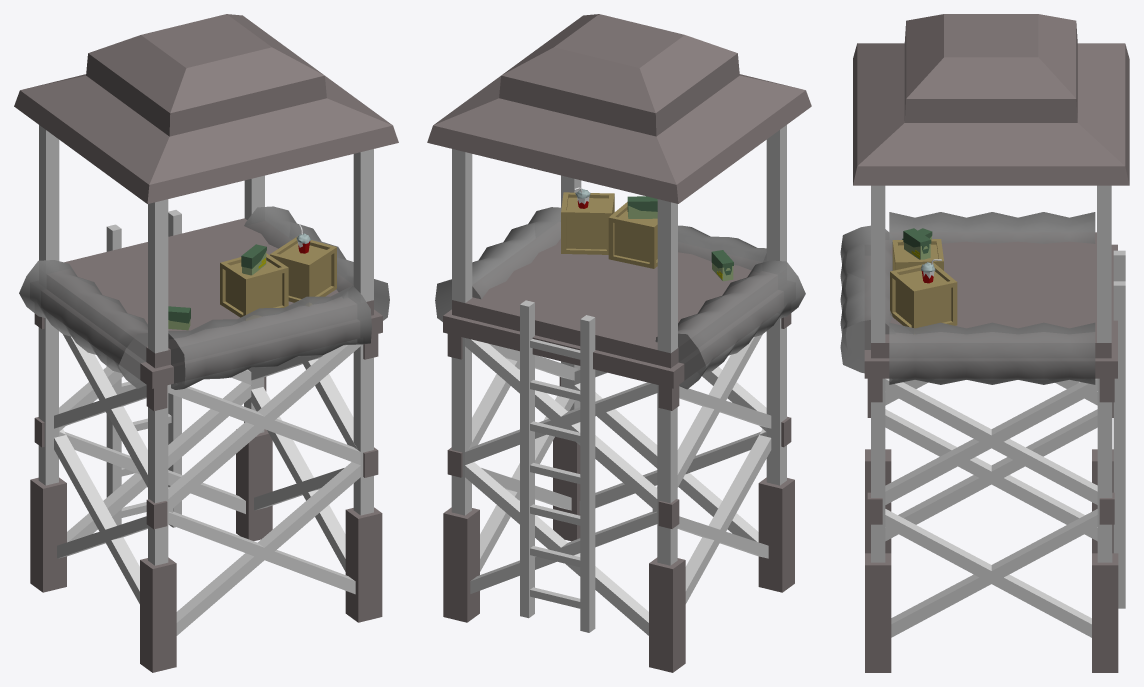
Rendered from Prop_GuardTower_Mod_01.fbx.
3 views of the same model, side by side, from view 1: azimuth 30°, elevation 25°; view 2: azimuth 150°, elevation 25°; view 3: azimuth 270°, elevation 25° (orthographic). The views are drawn at different scales.
Visible parts, largest first — view 1: GuardTower, Crate1, Crate, AmmoBox4; view 2: GuardTower, Crate, Crate1, AmmoBox4; view 3: GuardTower, Crate, Crate1, AmmoBox4.
Boxes of the visible parts, x1,y1,x2,y2 form: GuardTower: [14, 14, 398, 672]; Crate1: [220, 253, 288, 320]; Crate: [270, 236, 336, 306]; AmmoBox4: [241, 244, 266, 275]; GuardTower: [427, 14, 811, 672]; Crate: [561, 192, 614, 254]; Crate1: [608, 202, 657, 268]; AmmoBox4: [627, 196, 657, 218]; GuardTower: [840, 14, 1129, 672]; Crate: [890, 262, 957, 328]; Crate1: [892, 239, 943, 270]; AmmoBox4: [903, 228, 931, 259].
Size of the model in its own units: 15.19 by 29.9 by 13.52.
